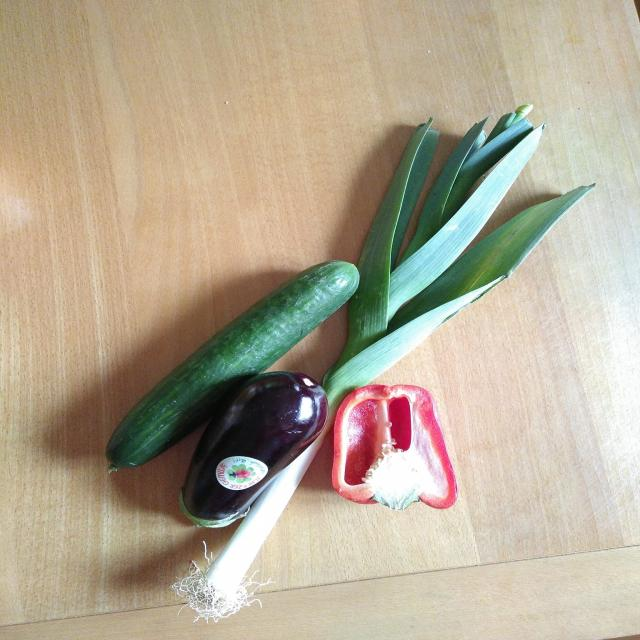Cucumber: (103, 259, 359, 478)
